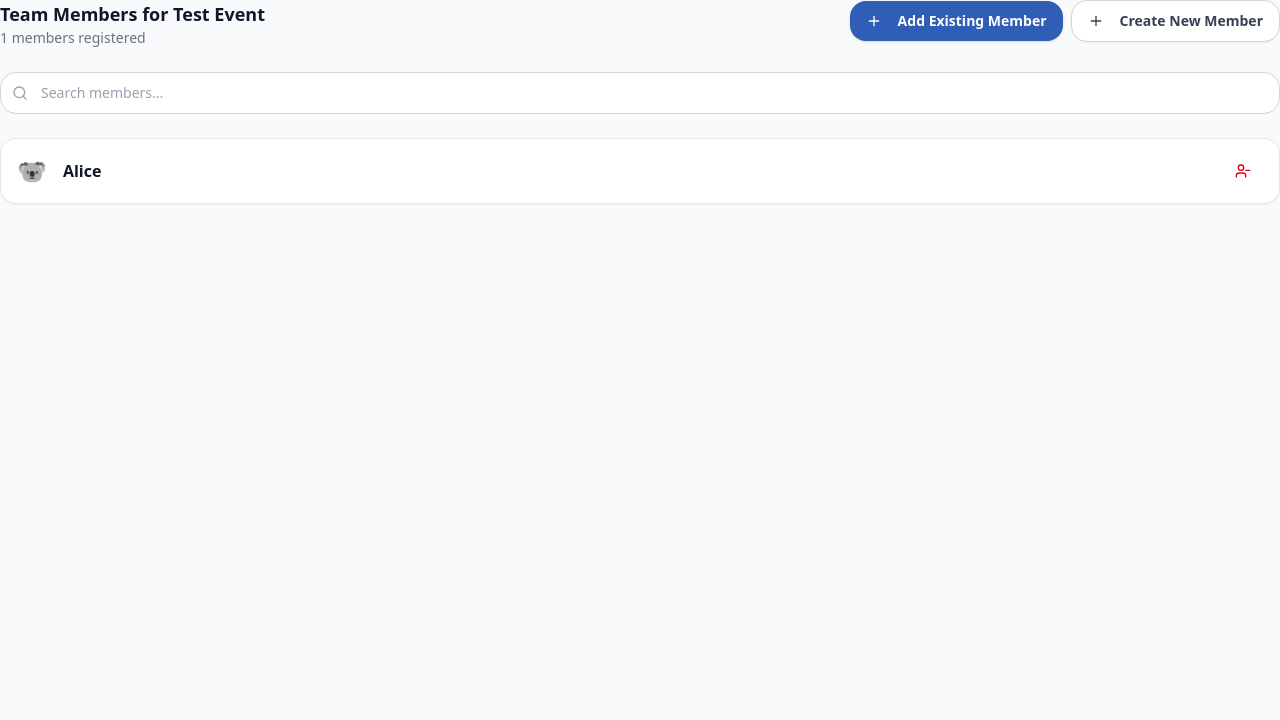
Test: MemberListByEvent – remove member confirmation › opens a ConfirmDialog instead of window.confirm when removing a member
Click the button named "remove member".
click(1243, 171)  # box [1223,157,1263,185]
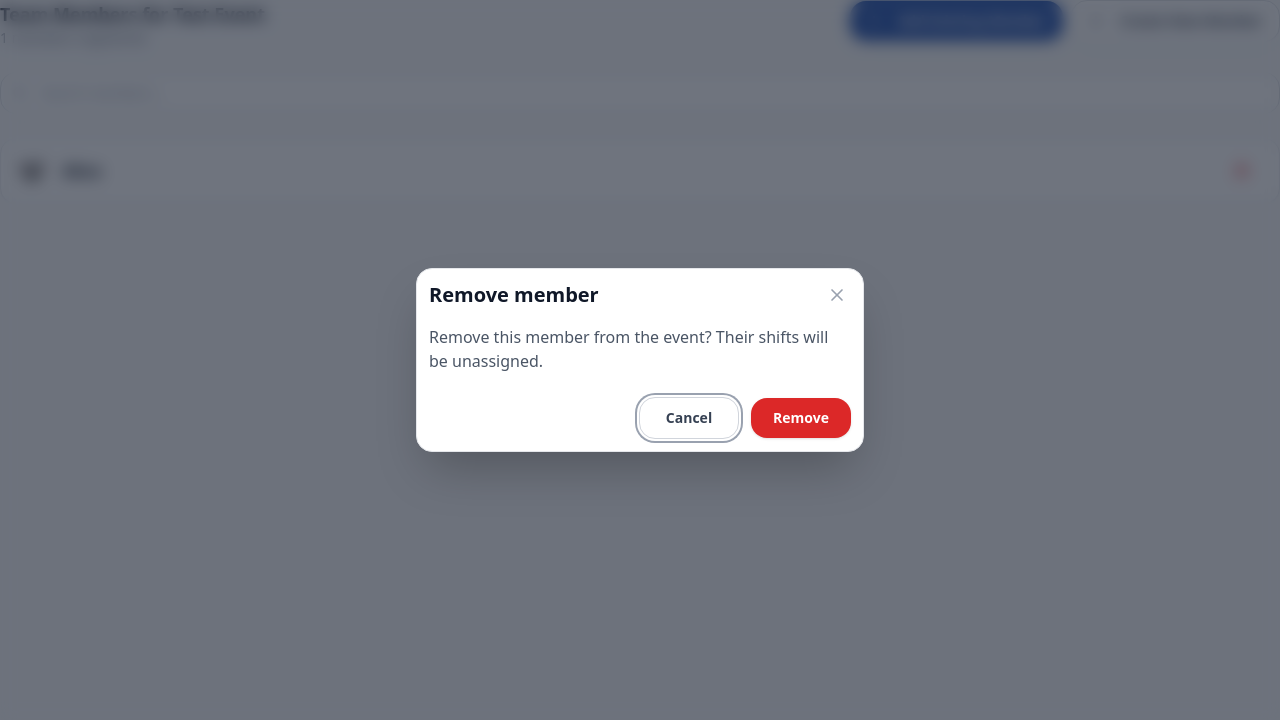
Result: the dialog is shown
Result: the text "Remove this member from the event" is shown at [429,326,828,372]
